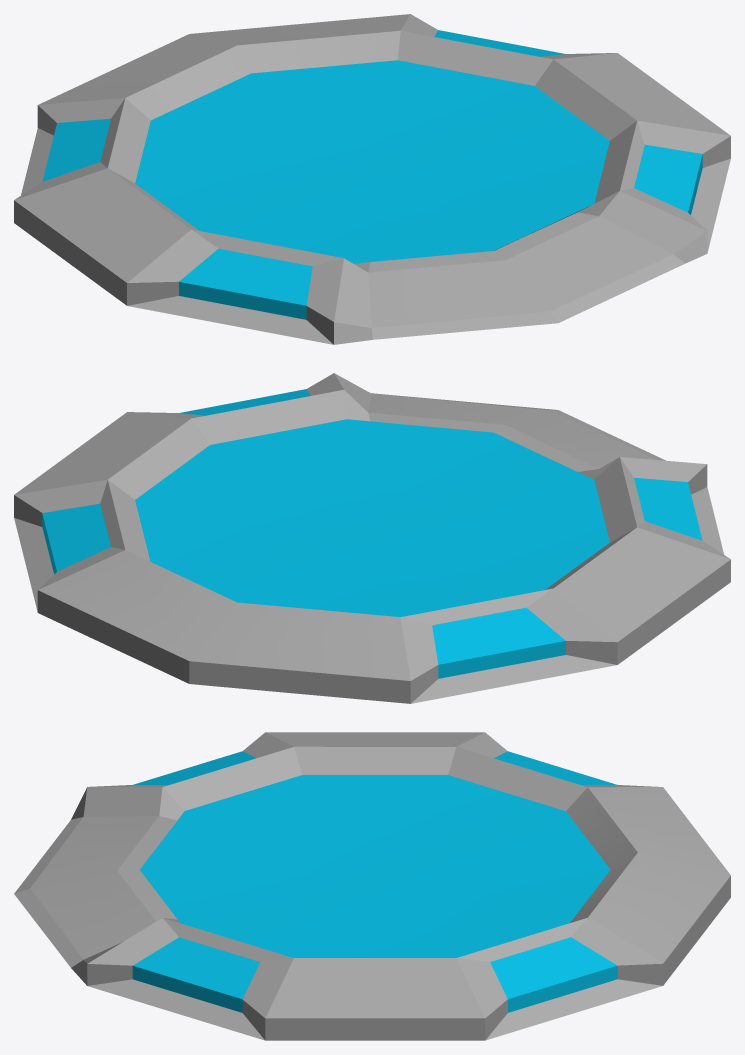
The model's file is charging_pad.fbx.
The picture shows the model from 3 angles, top to bottom: view 1: azimuth 30°, elevation 25°; view 2: azimuth 150°, elevation 25°; view 3: azimuth 270°, elevation 25°; orthographic projection. The views are drawn at different scales.
Parts seen in each view (by area): view 1: charging_pad1:pad_ring1, charging_pad1:pad_platform1, charging_pad1:pad_light1, charging_pad1:pad_light4, charging_pad1:pad_light2, charging_pad1:pad_light3; view 2: charging_pad1:pad_ring1, charging_pad1:pad_platform1, charging_pad1:pad_light2, charging_pad1:pad_light3, charging_pad1:pad_light1, charging_pad1:pad_light4; view 3: charging_pad1:pad_ring1, charging_pad1:pad_platform1, charging_pad1:pad_light4, charging_pad1:pad_light3, charging_pad1:pad_light1, charging_pad1:pad_light2.
Part boxes in pixels (left/top/right/bottom): charging_pad1:pad_ring1: left=14, top=14, right=730, bottom=344; charging_pad1:pad_platform1: left=135, top=60, right=609, bottom=263; charging_pad1:pad_light1: left=179, top=248, right=312, bottom=319; charging_pad1:pad_light4: left=634, top=144, right=702, bottom=214; charging_pad1:pad_light2: left=42, top=118, right=110, bottom=181; charging_pad1:pad_light3: left=434, top=30, right=564, bottom=56; charging_pad1:pad_ring1: left=14, top=373, right=730, bottom=703; charging_pad1:pad_platform1: left=135, top=419, right=609, bottom=617; charging_pad1:pad_light2: left=432, top=607, right=565, bottom=678; charging_pad1:pad_light3: left=42, top=503, right=110, bottom=574; charging_pad1:pad_light1: left=634, top=477, right=702, bottom=540; charging_pad1:pad_light4: left=180, top=389, right=310, bottom=415; charging_pad1:pad_ring1: left=14, top=732, right=730, bottom=1040; charging_pad1:pad_platform1: left=140, top=775, right=610, bottom=957; charging_pad1:pad_light4: left=132, top=937, right=259, bottom=1012; charging_pad1:pad_light3: left=490, top=937, right=617, bottom=1012; charging_pad1:pad_light1: left=133, top=751, right=255, bottom=784; charging_pad1:pad_light2: left=494, top=751, right=616, bottom=784.
Size of the model in its own units: 1014 by 74.51 by 1073.
